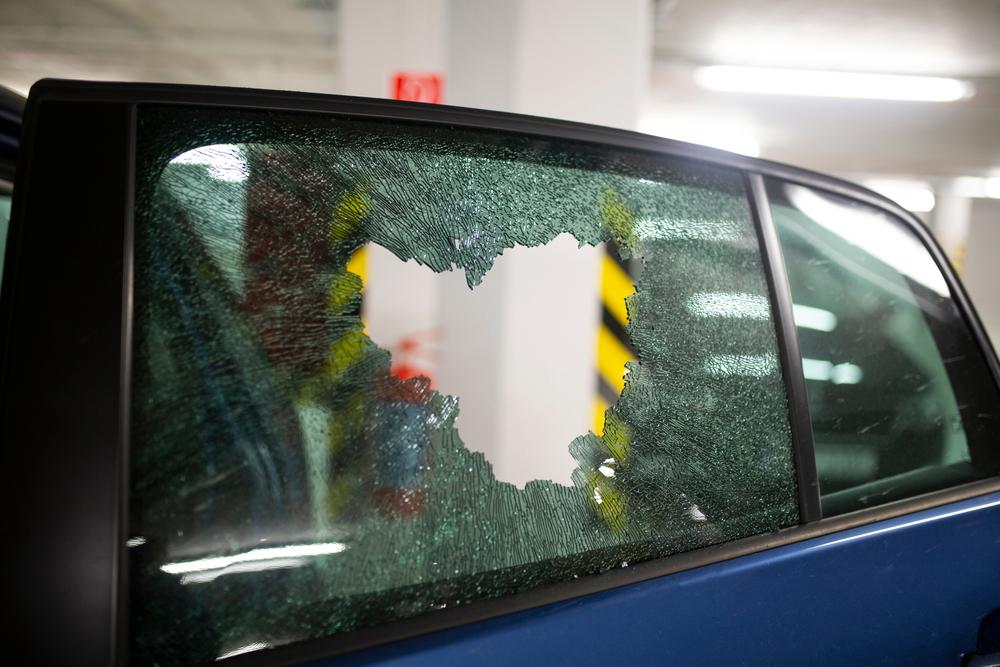glass shatter: (135, 123, 801, 662)
